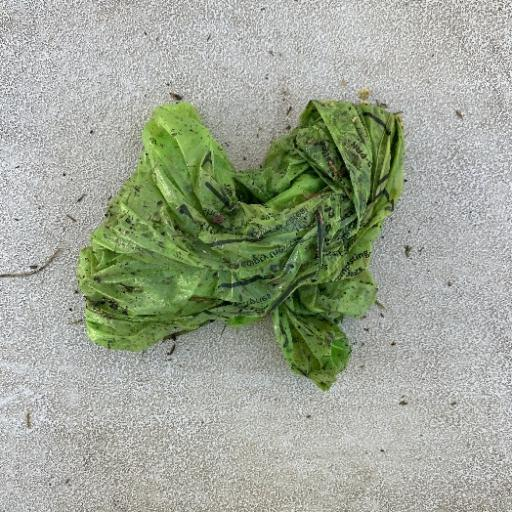Waste: (76, 96, 406, 392)
